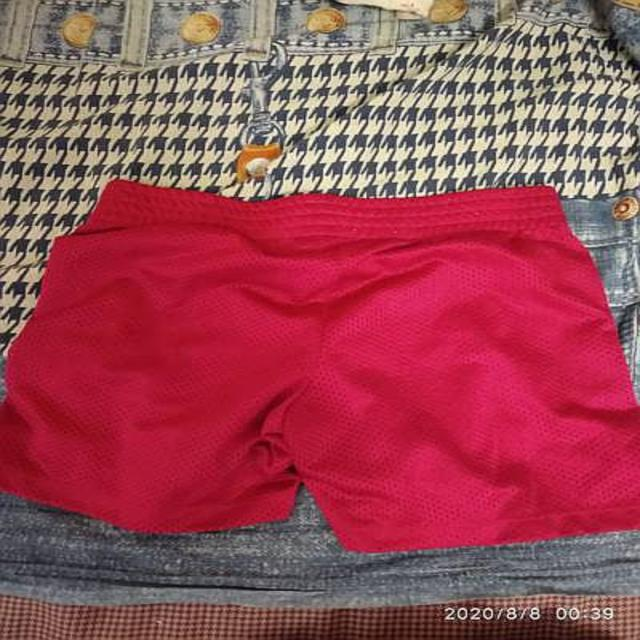SHORT: (0, 167, 640, 562)
